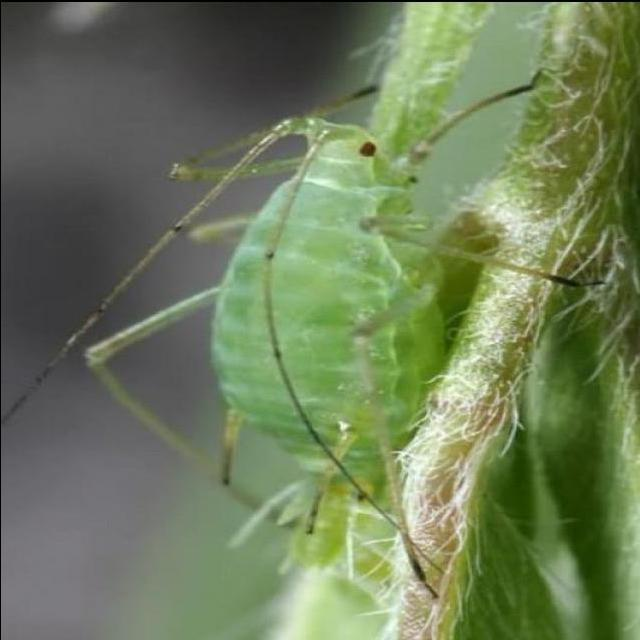aphid: (62, 94, 508, 547)
